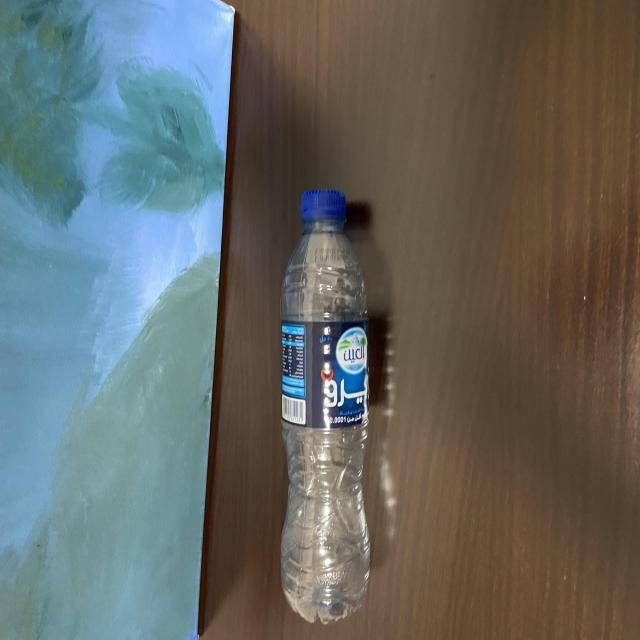bottle: (270, 172, 370, 640)
